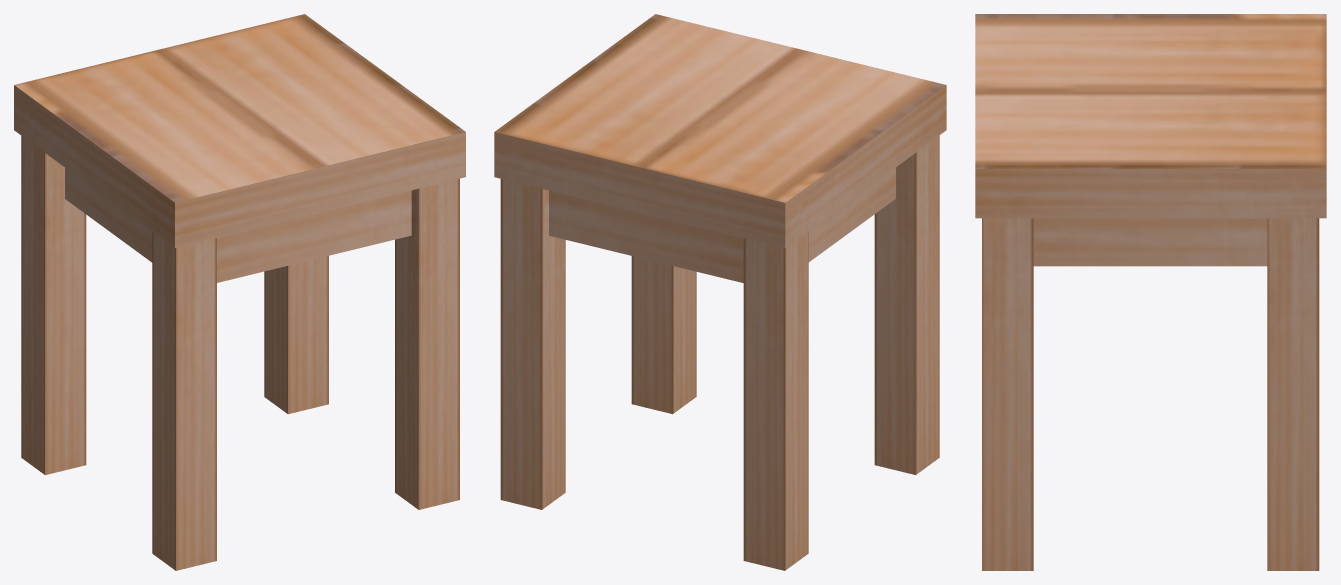
Rendered from table.fbx.
3 views of the same model, side by side, from view 1: azimuth 30°, elevation 25°; view 2: azimuth 150°, elevation 25°; view 3: azimuth 270°, elevation 25° (orthographic). The views are drawn at different scales.
Visible parts, largest first — view 1: table; view 2: table; view 3: table.
Boxes of the visible parts, x1=… form: table: x1=14, y1=14, x2=465, y2=570; table: x1=494, y1=14, x2=946, y2=570; table: x1=975, y1=14, x2=1326, y2=570.
Size of the model in its own units: 1.63 by 1.98 by 1.56.
